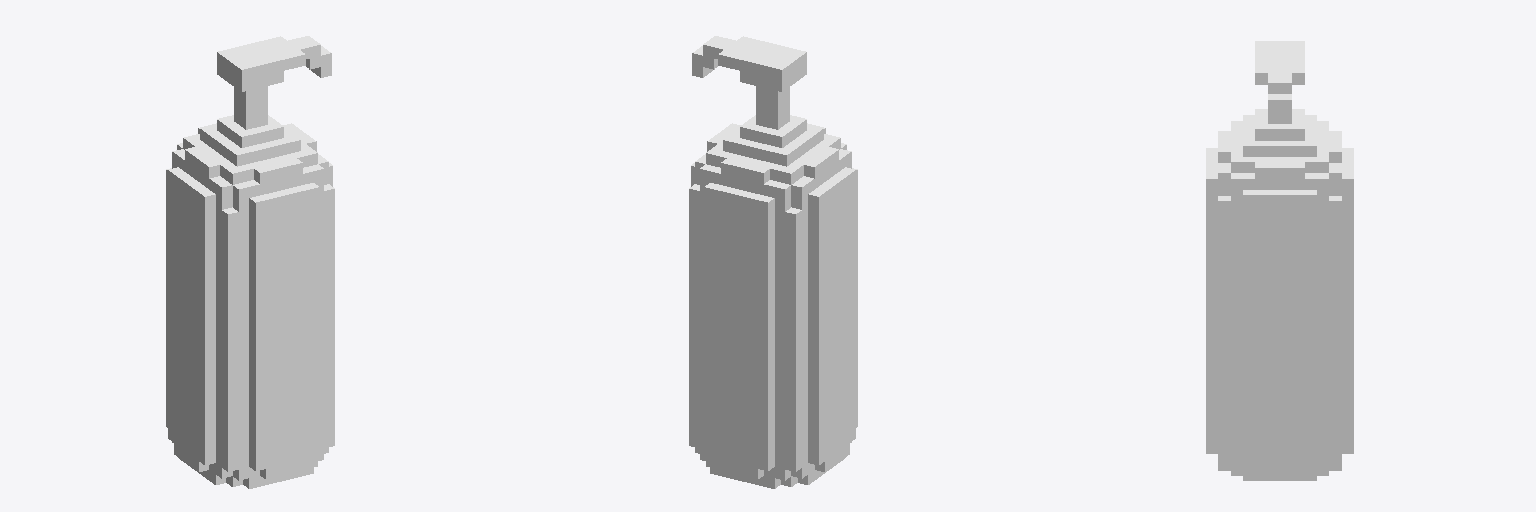
The model's file is V_Botl.obj.
3 views of the same model, side by side, from view 1: azimuth 30°, elevation 25°; view 2: azimuth 150°, elevation 25°; view 3: azimuth 270°, elevation 25° (orthographic).
Parts seen in each view (by area): view 1: object 1; view 2: object 1; view 3: object 1.
Boxes of the visible parts, x1,y1,x2,y2 form: object 1: [166, 36, 334, 488]; object 1: [689, 36, 857, 488]; object 1: [1206, 41, 1353, 480].
Size of the model in its own units: 1.3 by 3.6 by 1.2.